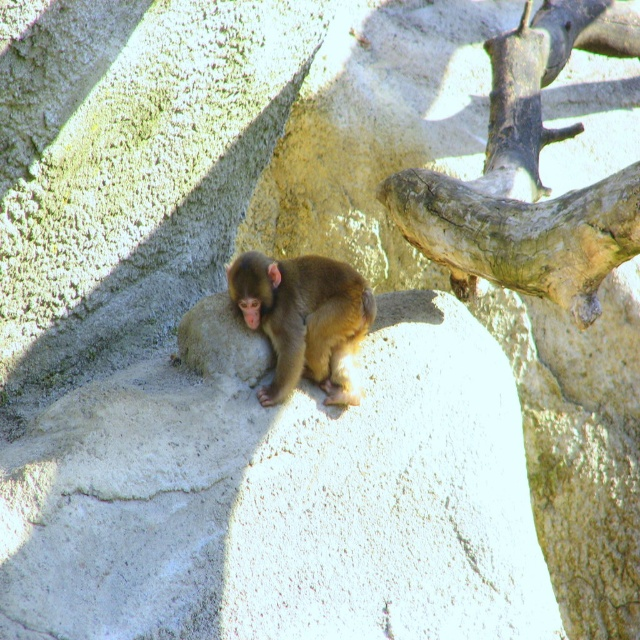Monkey: (227, 242, 385, 415)
